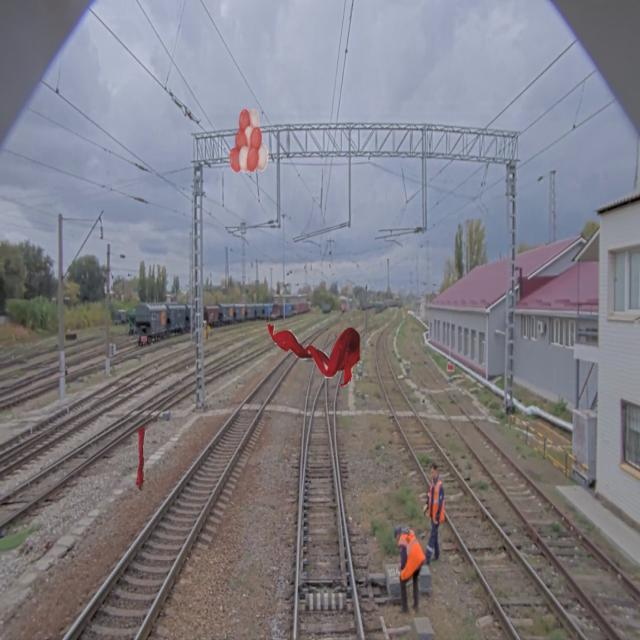balloon: (266, 322, 360, 387), (230, 109, 268, 172)
floating object: (136, 426, 146, 491)
